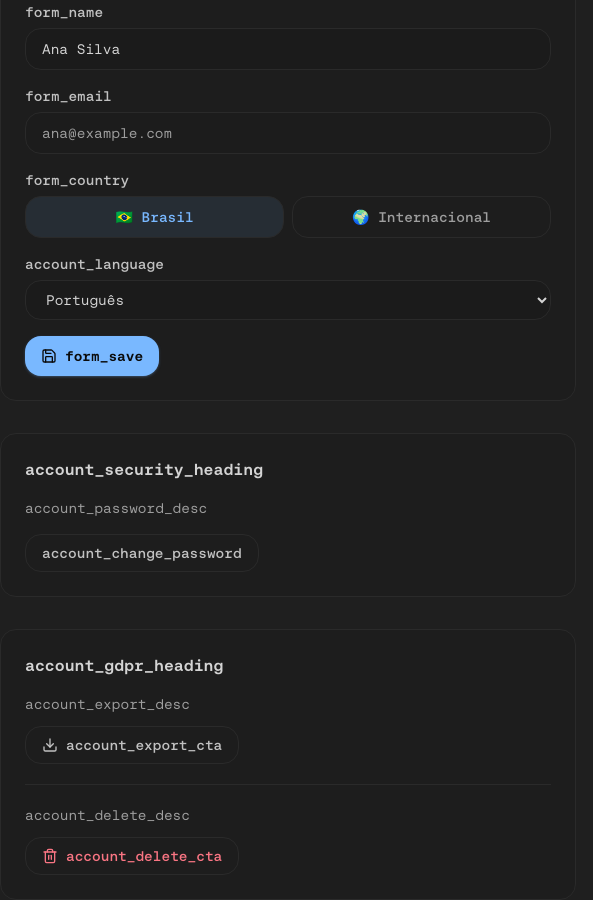
Test case: AccountSection › botão de deletar conta exige digitar o email antes de habilitar (edge)
The width and height of the screenshot is (593, 900).
(page scrolled)
Click the button "account_delete_cta" at (132, 856), box [25, 837, 239, 875]
(page scrolled)
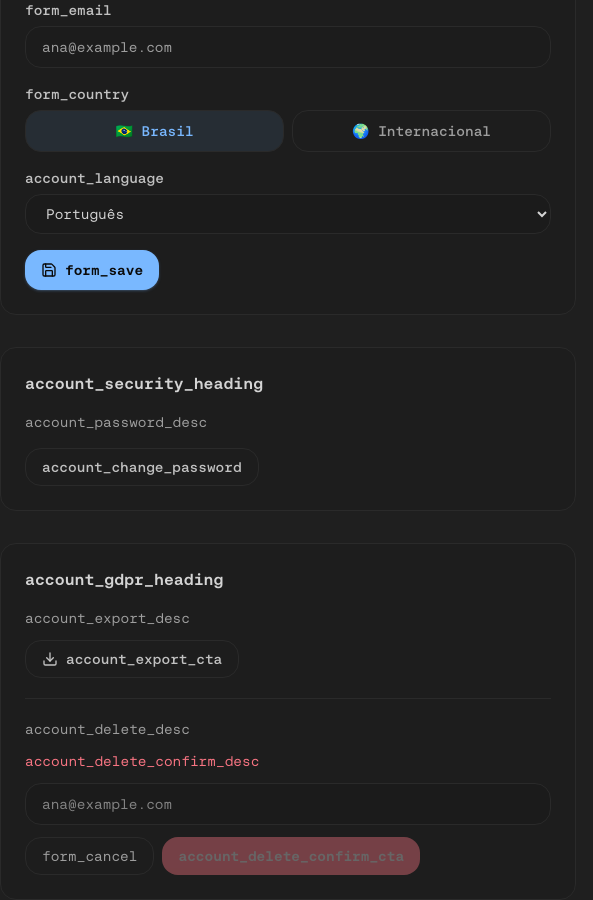
Expected: the button "account_delete_confirm_cta" is disabled, [162, 837, 420, 875]
Type "email-errado@x.com" into the field with placeholder "ana@example.com" at (288, 804), box [25, 783, 551, 825]
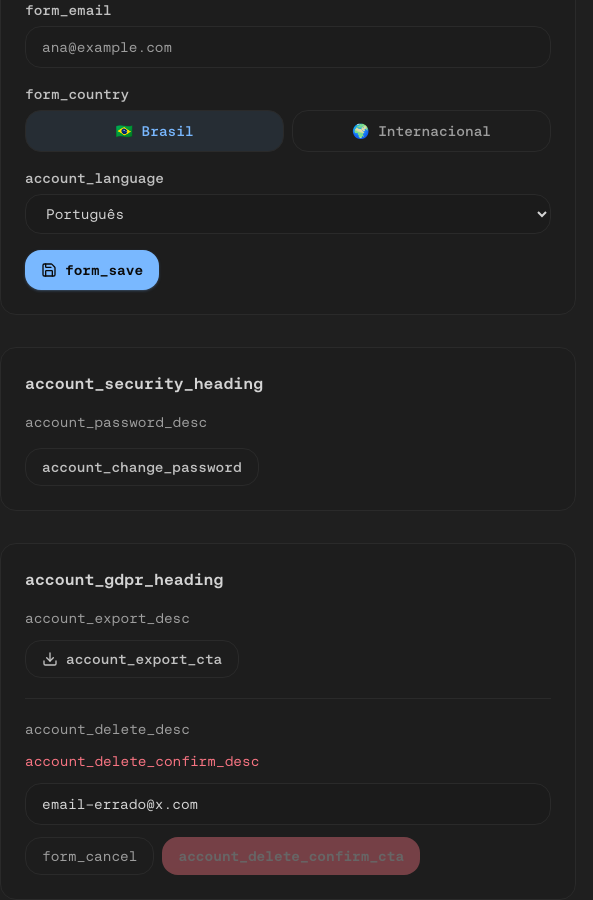
Expected: the button "account_delete_confirm_cta" is disabled, [162, 837, 420, 875]
Replace the text in the field with placeholder "ana@example.com" with "ana@example.com" at (288, 804), box [25, 783, 551, 825]
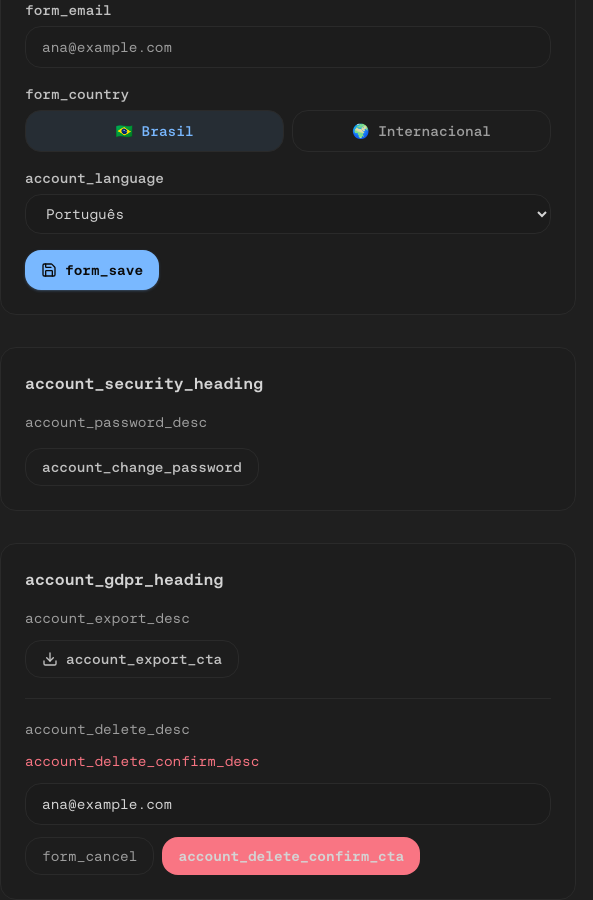
Expected: the button "account_delete_confirm_cta" is enabled, [162, 837, 420, 875]
